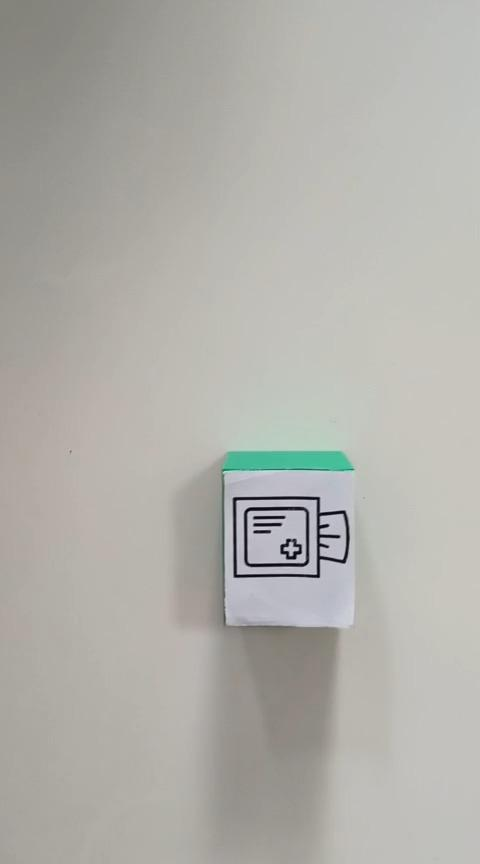Gauze: (220, 449, 356, 629)
